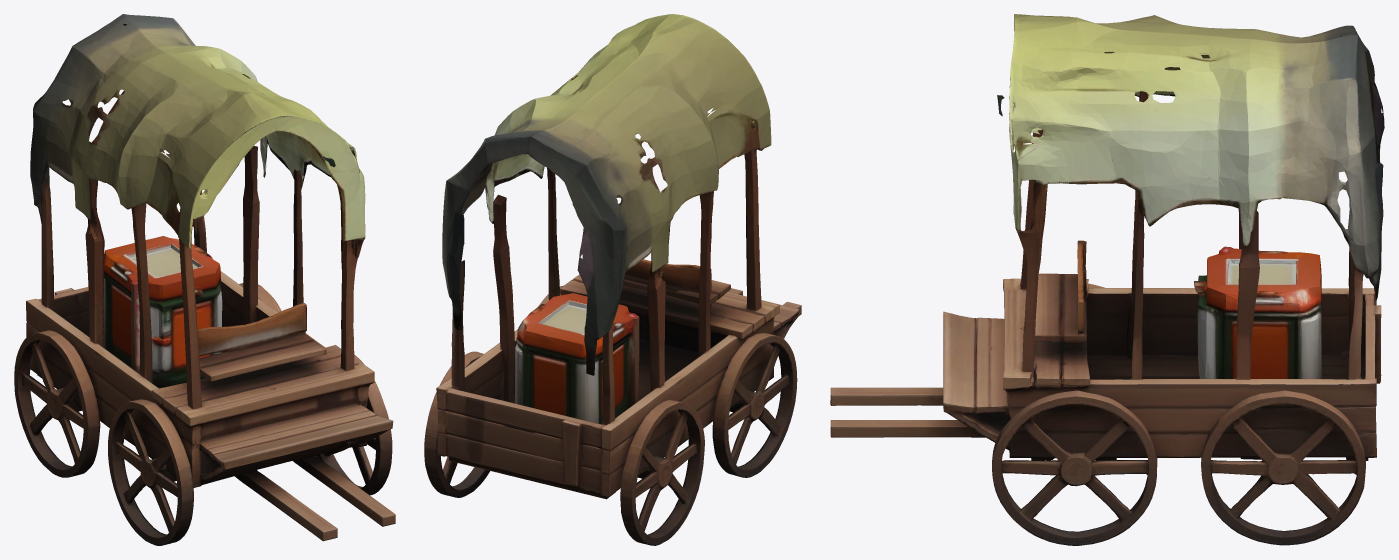
File: nano_t06.glb
The picture shows the model from 3 angles, left to right: view 1: azimuth 30°, elevation 25°; view 2: azimuth 150°, elevation 25°; view 3: azimuth 270°, elevation 25°; orthographic projection. The views are drawn at different scales.
Parts seen in each view (by area): view 1: geometry_0; view 2: geometry_0; view 3: geometry_0.
Part boxes in pixels (x1,y1,x2,y2): geometry_0: (14, 14, 395, 545); geometry_0: (424, 14, 801, 545); geometry_0: (830, 14, 1384, 545).
Size of the model in its own units: 0.9663 by 1.84 by 1.97.
1 material, 1 textured.
